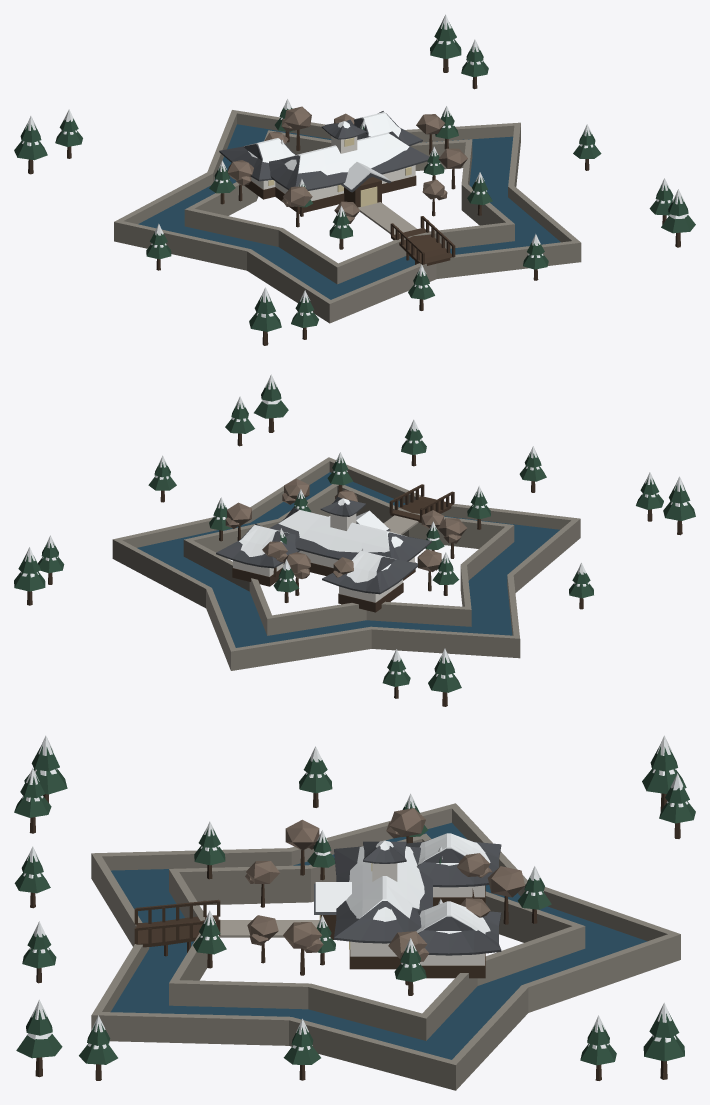
File: goryokaku.glb
The picture shows the model from 3 angles, top to bottom: view 1: azimuth 30°, elevation 25°; view 2: azimuth 150°, elevation 25°; view 3: azimuth 270°, elevation 25°; orthographic projection. The views are drawn at different scales.
Parts seen in each view (by area): view 1: goryo_stonewall, goryo_water, goryo_fir, goryo_snow, goryo_wood, goryo_roof, goryo_bare, goryo_plaster, goryo_pave; view 2: goryo_stonewall, goryo_water, goryo_fir, goryo_snow, goryo_roof, goryo_wood, goryo_bare, goryo_plaster; view 3: goryo_stonewall, goryo_fir, goryo_water, goryo_snow, goryo_roof, goryo_wood, goryo_bare, goryo_plaster, goryo_pave.
Part boxes in pixels (bbox=[...]): goryo_stonewall: bbox=[114, 110, 581, 323]; goryo_water: bbox=[138, 124, 560, 299]; goryo_fir: bbox=[14, 22, 695, 331]; goryo_snow: bbox=[22, 14, 687, 317]; goryo_wood: bbox=[28, 58, 680, 345]; goryo_roof: bbox=[219, 111, 429, 192]; goryo_bare: bbox=[227, 106, 467, 223]; goryo_plaster: bbox=[251, 136, 415, 200]; goryo_pave: bbox=[358, 202, 416, 234]; goryo_stonewall: bbox=[112, 457, 580, 670]; goryo_water: bbox=[137, 472, 559, 647]; goryo_fir: bbox=[14, 381, 695, 692]; goryo_snow: bbox=[20, 374, 688, 678]; goryo_roof: bbox=[216, 496, 431, 594]; goryo_wood: bbox=[27, 418, 682, 706]; goryo_bare: bbox=[225, 478, 466, 578]; goryo_plaster: bbox=[233, 513, 414, 602]; goryo_stonewall: bbox=[91, 803, 680, 1090]; goryo_fir: bbox=[14, 744, 695, 1065]; goryo_water: bbox=[111, 822, 646, 1059]; goryo_snow: bbox=[22, 735, 688, 1050]; goryo_roof: bbox=[314, 838, 501, 955]; goryo_wood: bbox=[29, 793, 680, 1080]; goryo_bare: bbox=[245, 808, 525, 961]; goryo_plaster: bbox=[350, 863, 484, 965]; goryo_pave: bbox=[219, 920, 319, 937].
Bounding box in the file's own units: 20.78 × 3.98 × 20.73.
